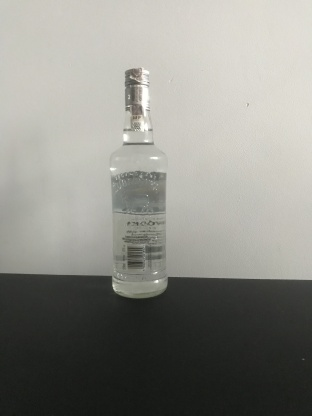nakretka: (122, 66, 152, 111)
